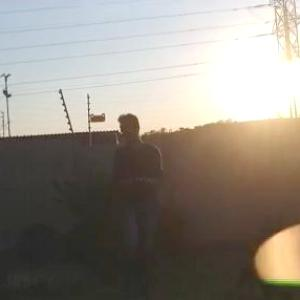follow: (104, 108, 168, 299)
